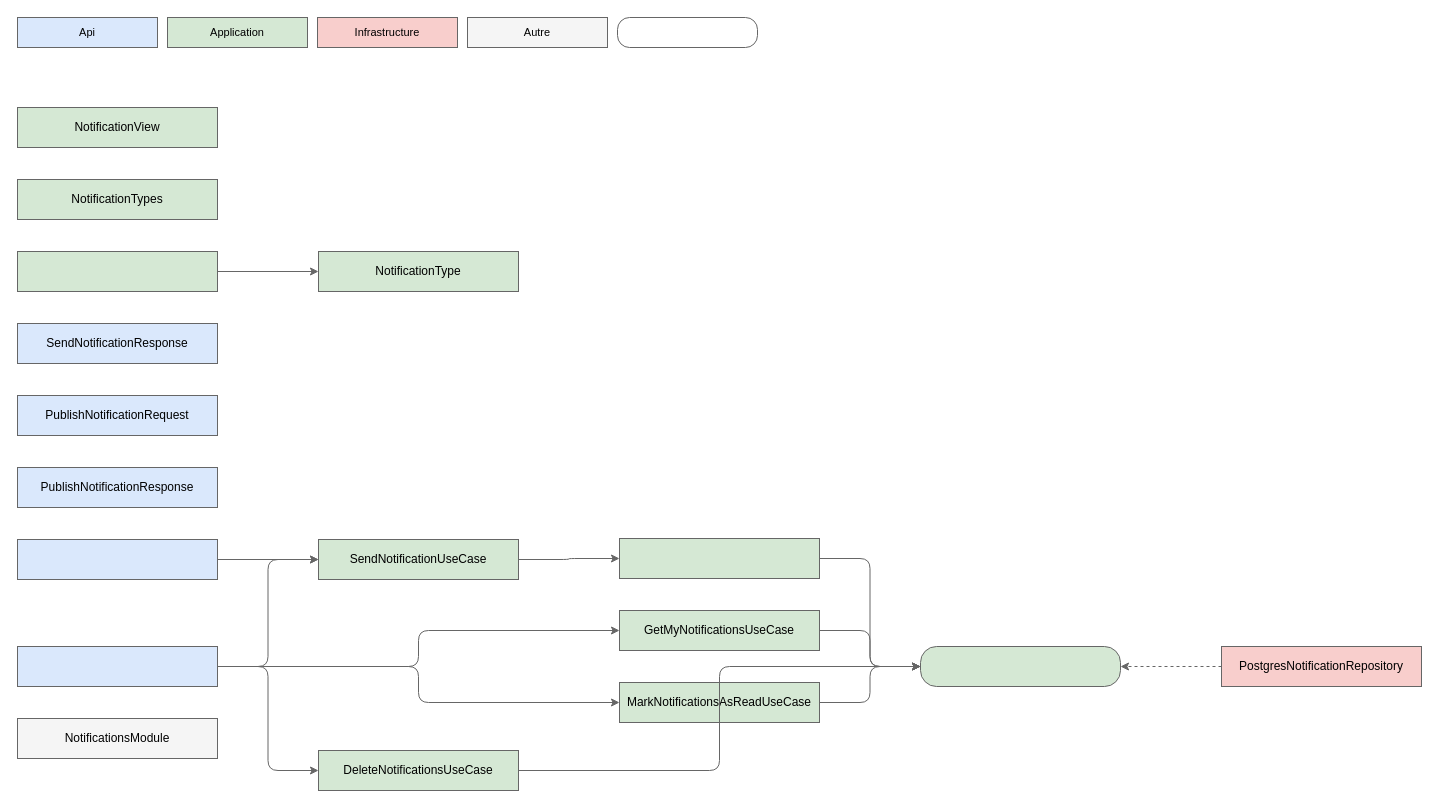
This 1439x808 diagram has some shape labels left out. The shapes that lost their labels are listed below. From the top down, each one's box as (x1, y1, x2, y2) in pixels, then its label:
(616, 16, 758, 48): Port (interface)
(16, 250, 218, 292): SendNotificationCommand
(16, 538, 218, 580): InternalNotificationsController
(618, 538, 820, 578): NotificationService
(16, 646, 218, 686): NotificationsController
(920, 646, 1120, 686): INotificationRepository
